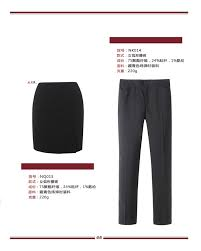F_tailored skirt: (24, 77, 88, 157)
S_W_pants: (112, 76, 179, 232)
